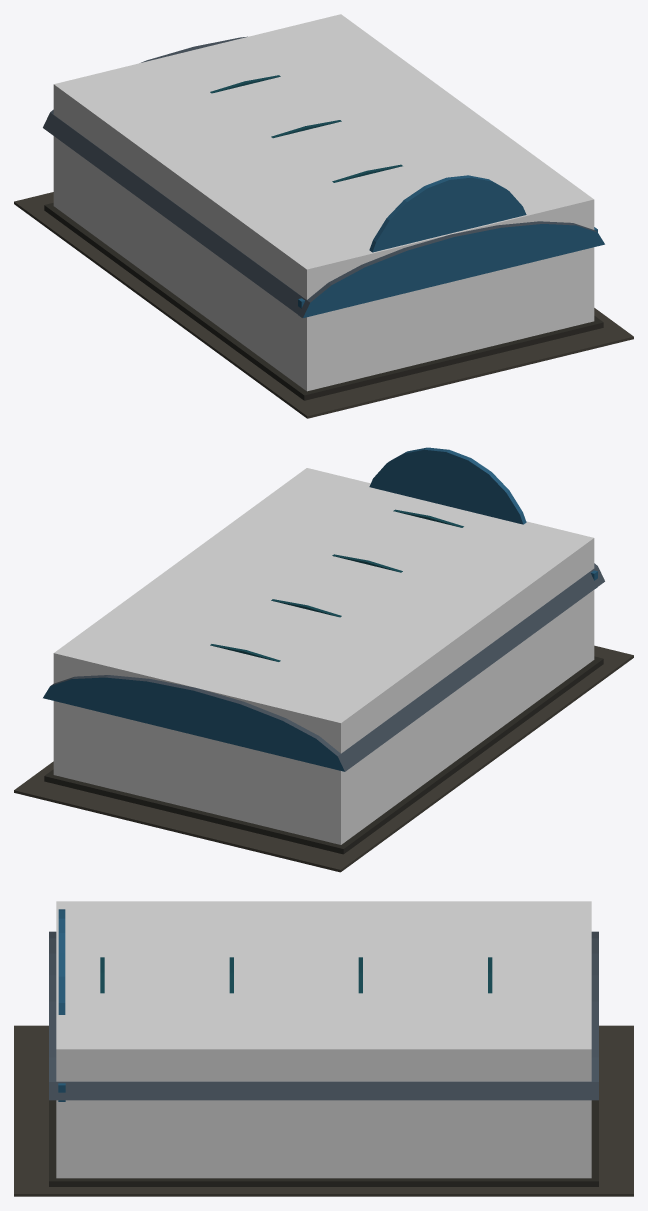
Rendered from N03_fish_market.glb.
3 renders of one model, top to bottom at view 1: azimuth 30°, elevation 25°; view 2: azimuth 150°, elevation 25°; view 3: azimuth 270°, elevation 25°, orthographic. The views are drawn at different scales.
Parts seen in each view (by area): view 1: COL_Main, LOD0; view 2: COL_Main, LOD0; view 3: COL_Main, LOD0.
Boxes of the visible parts, x1,y1,x2,y2 form: COL_Main: (53, 14, 594, 391); LOD0: (14, 36, 633, 418); COL_Main: (53, 468, 594, 844); LOD0: (14, 447, 633, 872); COL_Main: (56, 901, 591, 1178); LOD0: (14, 909, 633, 1196).
Size of what is drawn, in the model's own units: 21.6 by 11.6 by 33.6.
